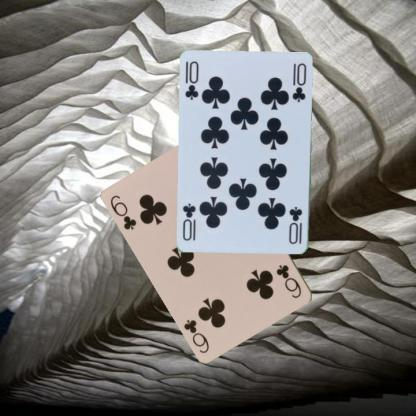10c: (286, 204, 304, 246), (182, 59, 200, 101)
6c: (108, 192, 138, 232), (274, 262, 304, 300)
